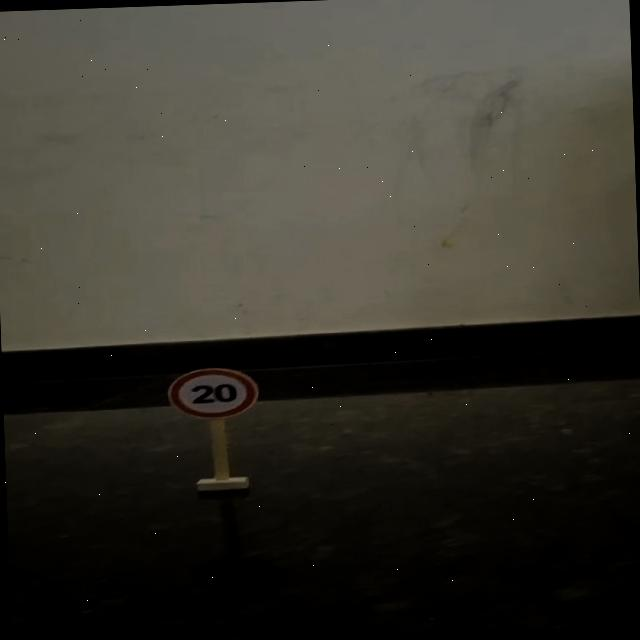Speed20: (160, 362, 266, 422)
